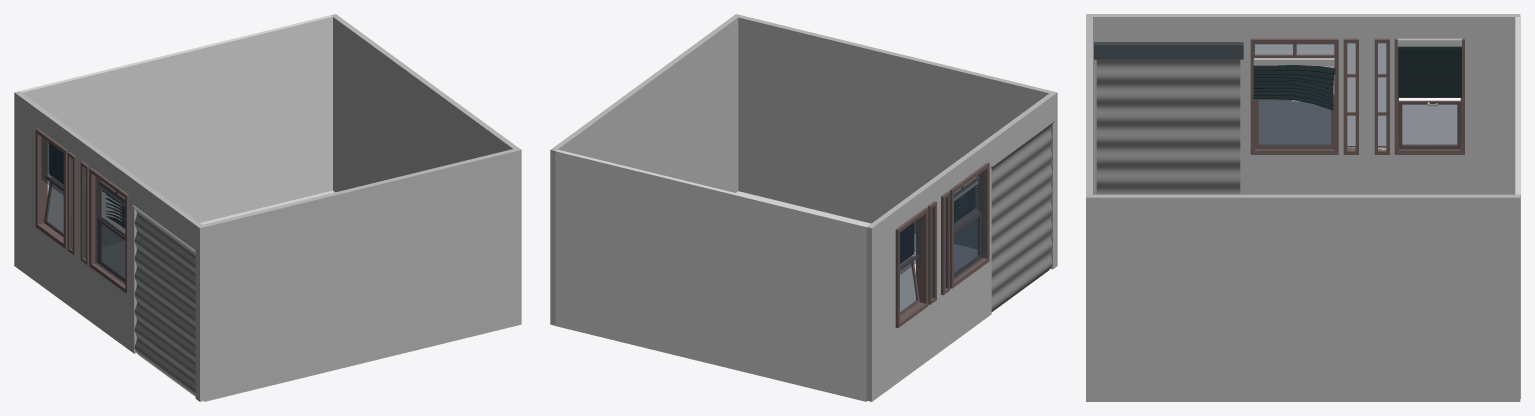
The model's file is Walls.fbx.
3 renders of one model, left to right at view 1: azimuth 30°, elevation 25°; view 2: azimuth 150°, elevation 25°; view 3: azimuth 270°, elevation 25°, orthographic. The views are drawn at different scales.
Visible parts, largest first — view 1: Wall.001, Wall, Wall.003, Wall.002, Plane.018, Wall.006, Wall.004, Wall.009, Floor, Wall.017, Wall.005, Cube.075; view 2: Wall, Wall.001, Wall.003, Wall.002, Plane.018, Wall.006, Wall.004, Floor, Wall.009, Wall.017, Wall.005, Cube.073 (+2 smaller); view 3: Wall.003, Wall.002, Plane.018, Wall.004, Wall.006, Cube.075, Wall.017, Cube.073, Cube.086, Wall.005, Wall.009, Wall.010 (+7 smaller).
Boxes of the visible parts, left/top/right/bottom form: Wall.001: left=202, top=149, right=516, bottom=401; Wall: left=19, top=15, right=332, bottom=246; Wall.003: left=331, top=14, right=521, bottom=325; Wall.002: left=14, top=91, right=205, bottom=401; Plane.018: left=132, top=205, right=195, bottom=396; Wall.006: left=35, top=128, right=129, bottom=293; Wall.004: left=41, top=137, right=125, bottom=284; Wall.009: left=67, top=152, right=89, bottom=264; Floor: left=102, top=190, right=334, bottom=401; Wall.017: left=99, top=222, right=124, bottom=278; Wall.005: left=46, top=183, right=63, bottom=233; Cube.075: left=48, top=143, right=63, bottom=184; Wall: left=555, top=149, right=868, bottom=400; Wall.001: left=738, top=15, right=1051, bottom=248; Wall.003: left=550, top=14, right=740, bottom=325; Wall.002: left=866, top=91, right=1057, bottom=401; Plane.018: left=991, top=121, right=1054, bottom=311; Wall.006: left=895, top=162, right=989, bottom=327; Wall.004: left=900, top=171, right=983, bottom=279; Floor: left=555, top=191, right=977, bottom=401; Wall.009: left=927, top=191, right=949, bottom=304; Wall.017: left=954, top=217, right=979, bottom=273; Wall.005: left=900, top=263, right=917, bottom=312; Cube.073: left=954, top=185, right=977, bottom=223; Wall.003: left=1086, top=194, right=1520, bottom=401; Wall.002: left=1086, top=14, right=1520, bottom=194; Plane.018: left=1096, top=59, right=1240, bottom=194; Wall.004: left=1255, top=44, right=1334, bottom=144; Wall.006: left=1250, top=38, right=1464, bottom=154; Cube.075: left=1398, top=46, right=1461, bottom=97; Wall.017: left=1258, top=100, right=1330, bottom=145; Cube.073: left=1253, top=65, right=1335, bottom=110; Cube.086: left=1094, top=42, right=1243, bottom=59; Wall.005: left=1402, top=104, right=1457, bottom=145; Wall.009: left=1343, top=38, right=1389, bottom=154; Wall.010: left=1347, top=43, right=1386, bottom=146.
Bounding box in the file's own units: 625 × 325 × 621.
